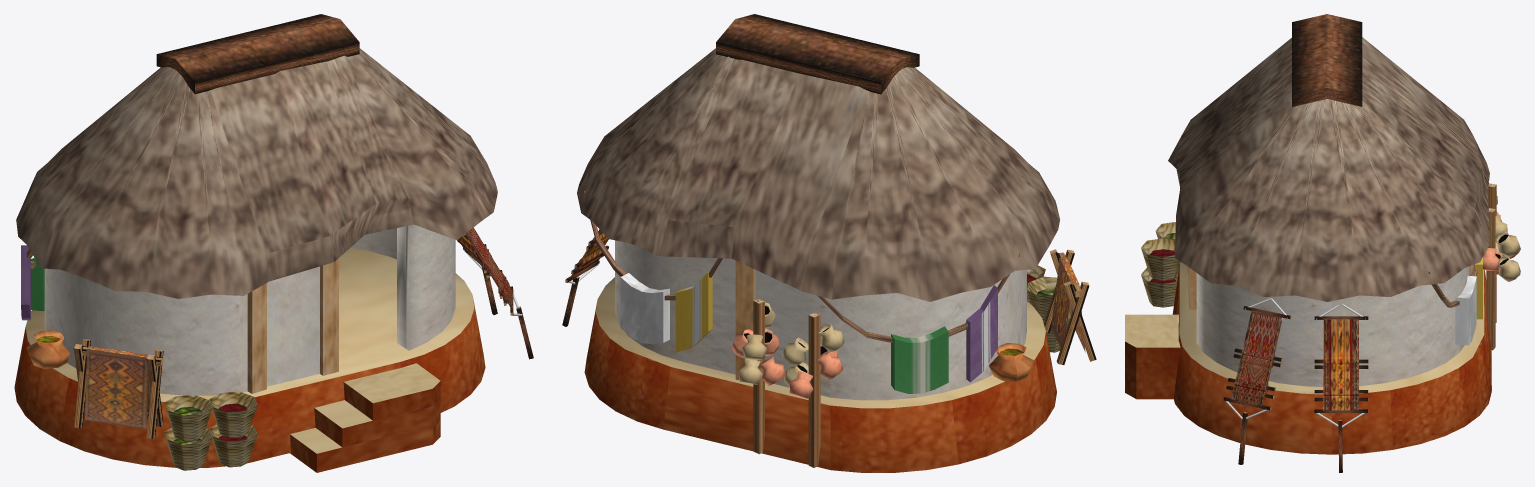
File: house_1.dae
3 renders of one model, left to right at view 1: azimuth 30°, elevation 25°; view 2: azimuth 150°, elevation 25°; view 3: azimuth 270°, elevation 25°, orthographic. The views are drawn at different scales.
Parts seen in each view (by area): view 1: house_1; view 2: house_1; view 3: house_1.
Boxes of the visible parts, bbox=[...] form: house_1: bbox=[14, 14, 533, 472]; house_1: bbox=[562, 14, 1096, 472]; house_1: bbox=[1125, 14, 1520, 472].
Bounding box in the file's own units: 12.4 × 9.69 × 8.45.
